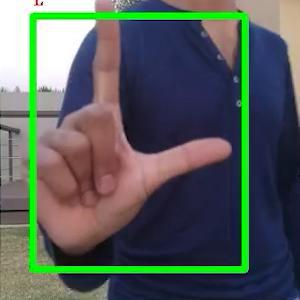land_hand: (15, 0, 239, 257)
